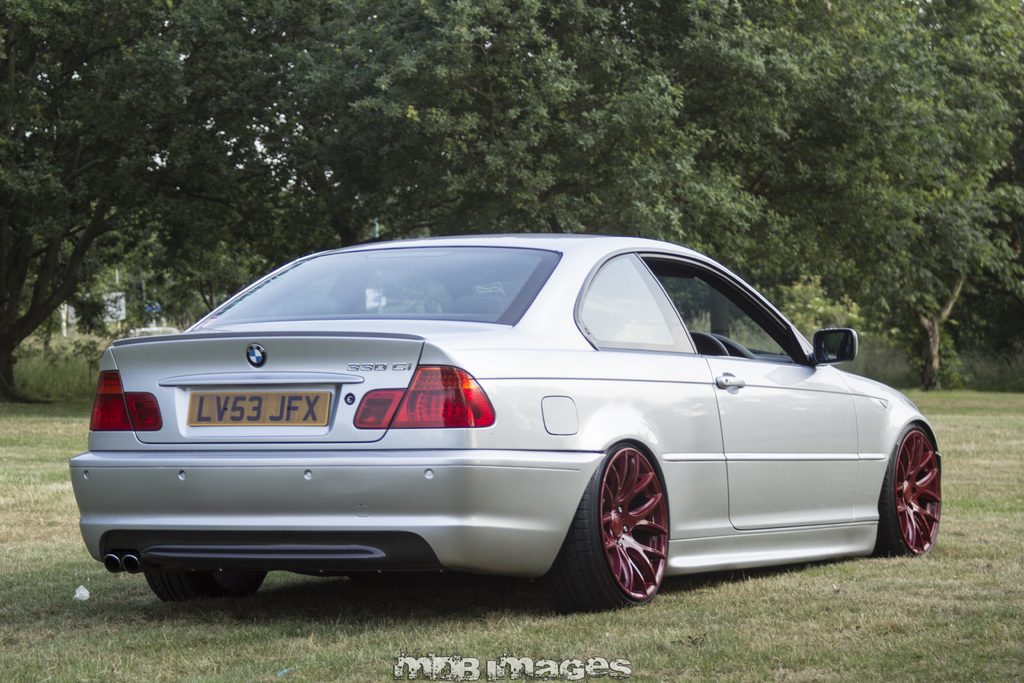Car: (65, 225, 944, 603)
